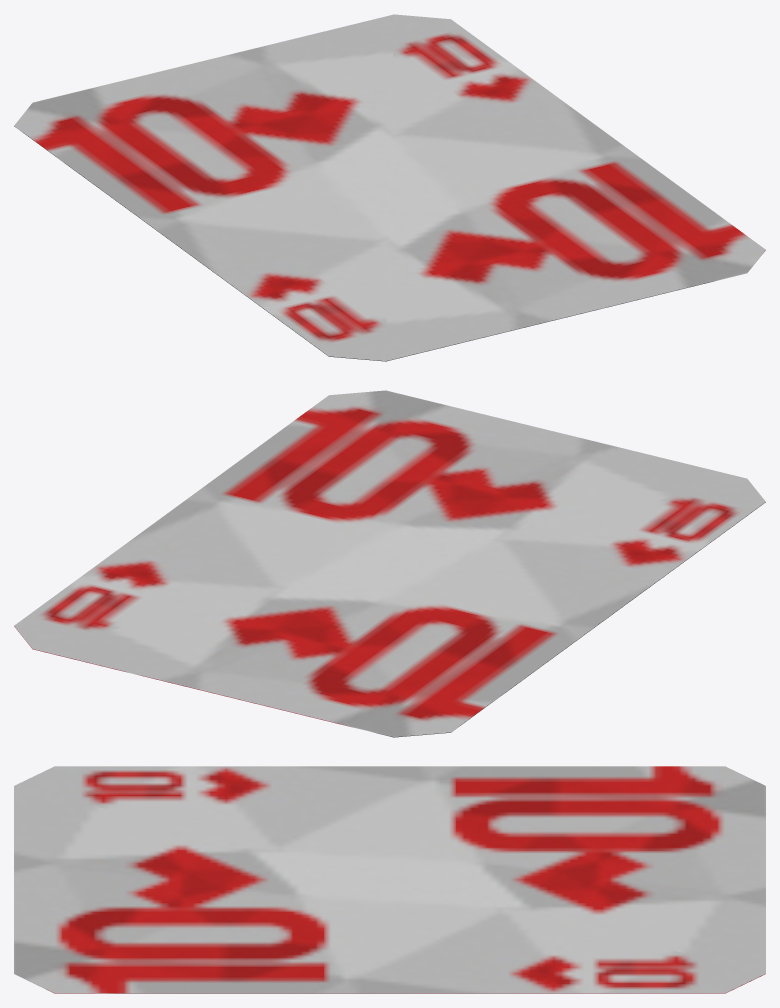
File: PlayingCards_10Heart.fbx
3 renders of one model, top to bottom at view 1: azimuth 30°, elevation 25°; view 2: azimuth 150°, elevation 25°; view 3: azimuth 270°, elevation 25°, orthographic. The views are drawn at different scales.
Visible parts, largest first — view 1: PlayingCards_10Heart; view 2: PlayingCards_10Heart; view 3: PlayingCards_10Heart.
Part boxes in pixels (bbox=[...]): PlayingCards_10Heart: bbox=[14, 14, 765, 361]; PlayingCards_10Heart: bbox=[14, 390, 765, 737]; PlayingCards_10Heart: bbox=[14, 766, 765, 993].
Size of the model in its own units: 6.35 by 0.00499 by 8.89.
